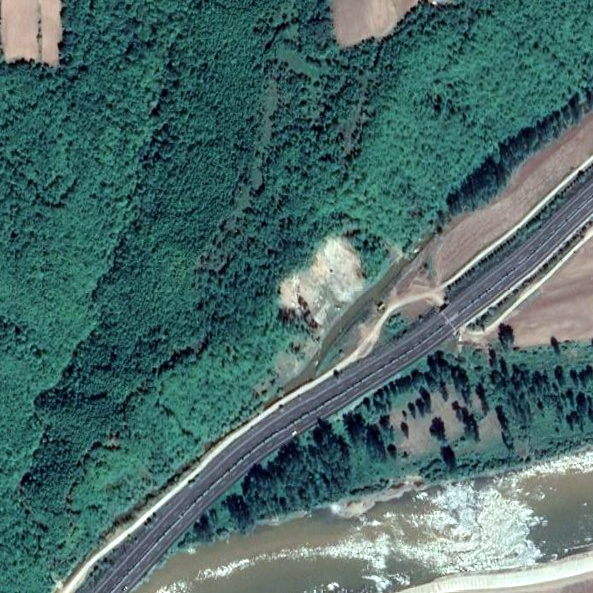slope: (271, 229, 372, 330)
